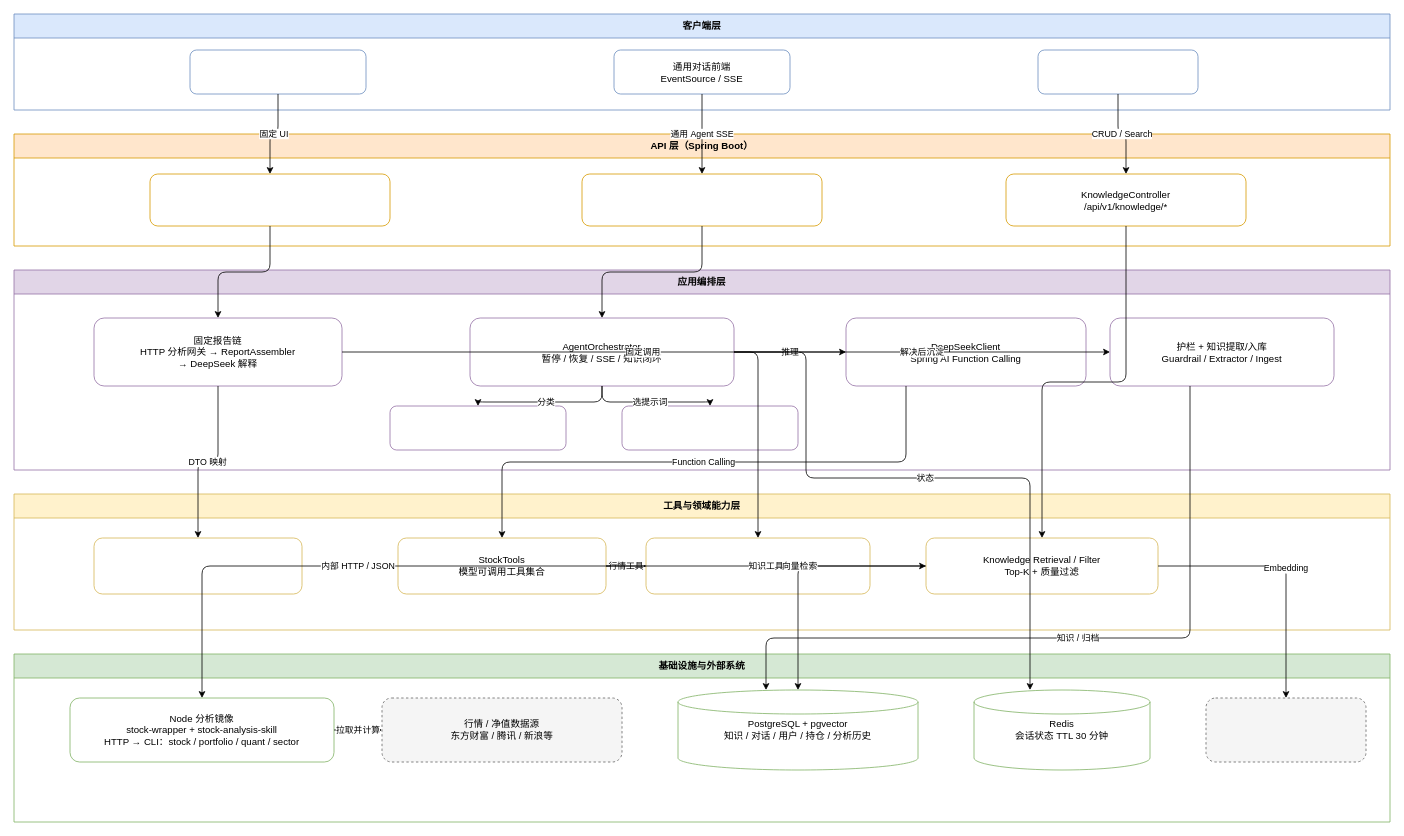
Some shapes in this 1404 by 836 pixel diagram are drawn without their labels. Each missing label, with the centre of its shape:
"ChatController /api/v1/chat/stream" belongs at pixel 701 199.
"HTTP 分析网关 StockAnalysisGateway" belongs at pixel 757 565.
"IntentClassifier Ollama 小模型" belongs at pixel 477 427.
"Ollama 分类 + 1024 维 Embedding" belongs at pixel 1285 729.
"ReportAssembler Skill JSON → 前端 DTO" belongs at pixel 197 565.
"SkillRegistry 4 类提示词配置" belongs at pixel 709 427.
"stock-agent.html 固定报告 UI" belongs at pixel 277 71.
"StockAgentController /api/stock-agent/analyze | chat" belongs at pixel 269 199.
"知识库管理端" belongs at pixel 1117 71.
